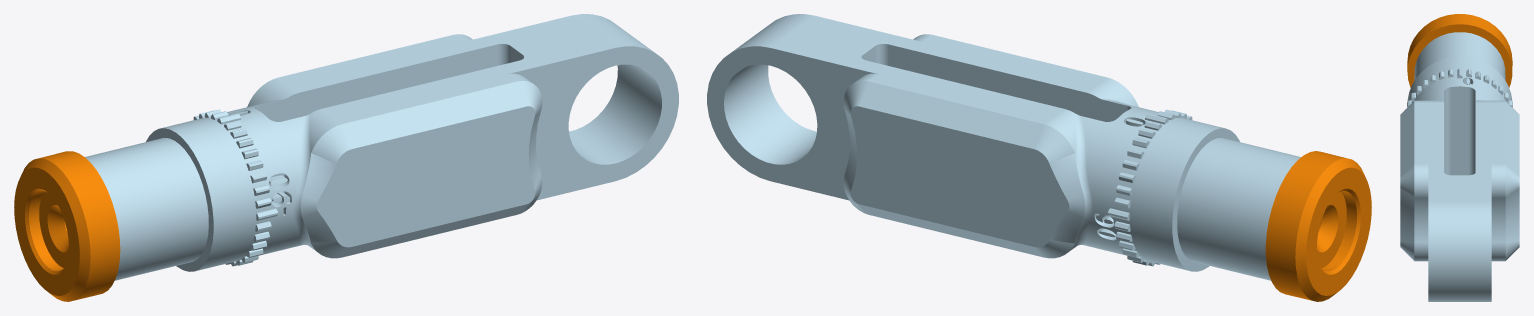
The model's file is ArmLink1.dae.
3 renders of one model, left to right at view 1: azimuth 30°, elevation 25°; view 2: azimuth 150°, elevation 25°; view 3: azimuth 270°, elevation 25°, orthographic. The views are drawn at different scales.
Parts seen in each view (by area): view 1: 5_ArmLink1, 6_Link1Cap; view 2: 5_ArmLink1, 6_Link1Cap; view 3: 5_ArmLink1, 6_Link1Cap.
Part boxes in pixels (x1,y1,x2,y2): 5_ArmLink1: (85,14,678,280); 6_Link1Cap: (14,151,120,301); 5_ArmLink1: (707,14,1300,280); 6_Link1Cap: (1265,151,1371,301); 5_ArmLink1: (1400,32,1519,301); 6_Link1Cap: (1407,14,1512,87).
Size of the model in its own units: 0.0718 by 0.017 by 0.016.
